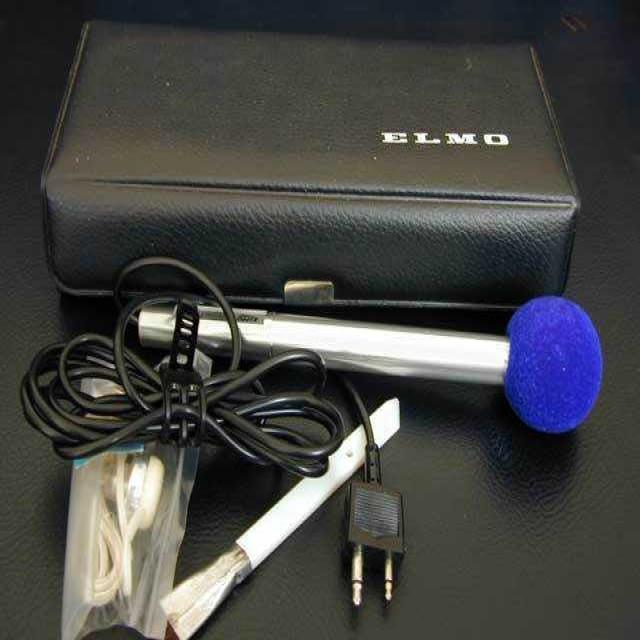microphone: (229, 287, 622, 430)
